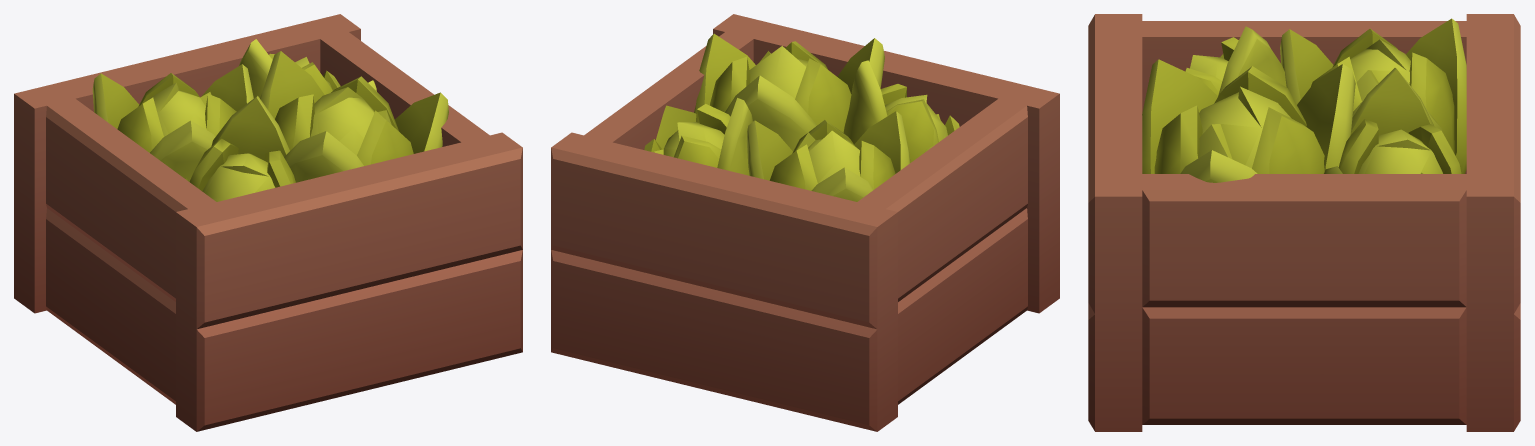
The model's file is crate_veg.glb.
The picture shows the model from 3 angles, left to right: view 1: azimuth 30°, elevation 25°; view 2: azimuth 150°, elevation 25°; view 3: azimuth 270°, elevation 25°; orthographic projection. The views are drawn at different scales.
Parts seen in each view (by area): view 1: crate_lettuce; view 2: crate_lettuce; view 3: crate_lettuce.
Boxes of the visible parts, left/top/right/bottom form: crate_lettuce: left=14, top=14, right=522, bottom=431; crate_lettuce: left=551, top=14, right=1059, bottom=431; crate_lettuce: left=1088, top=14, right=1520, bottom=431.
Size of the model in its own units: 1 by 0.7485 by 1.
1 material, 1 textured.
